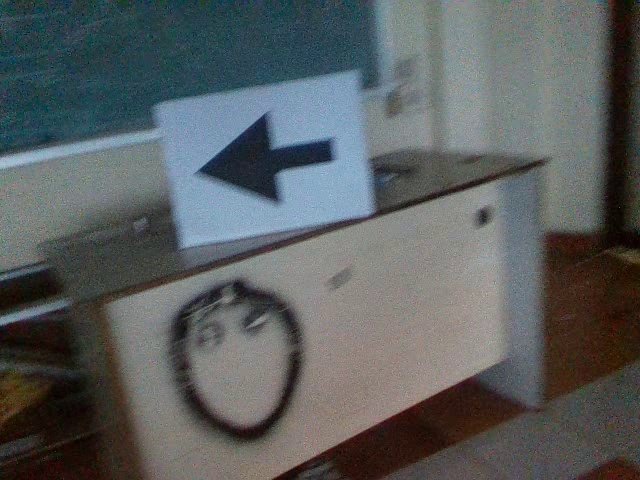Left: (187, 104, 341, 215)
